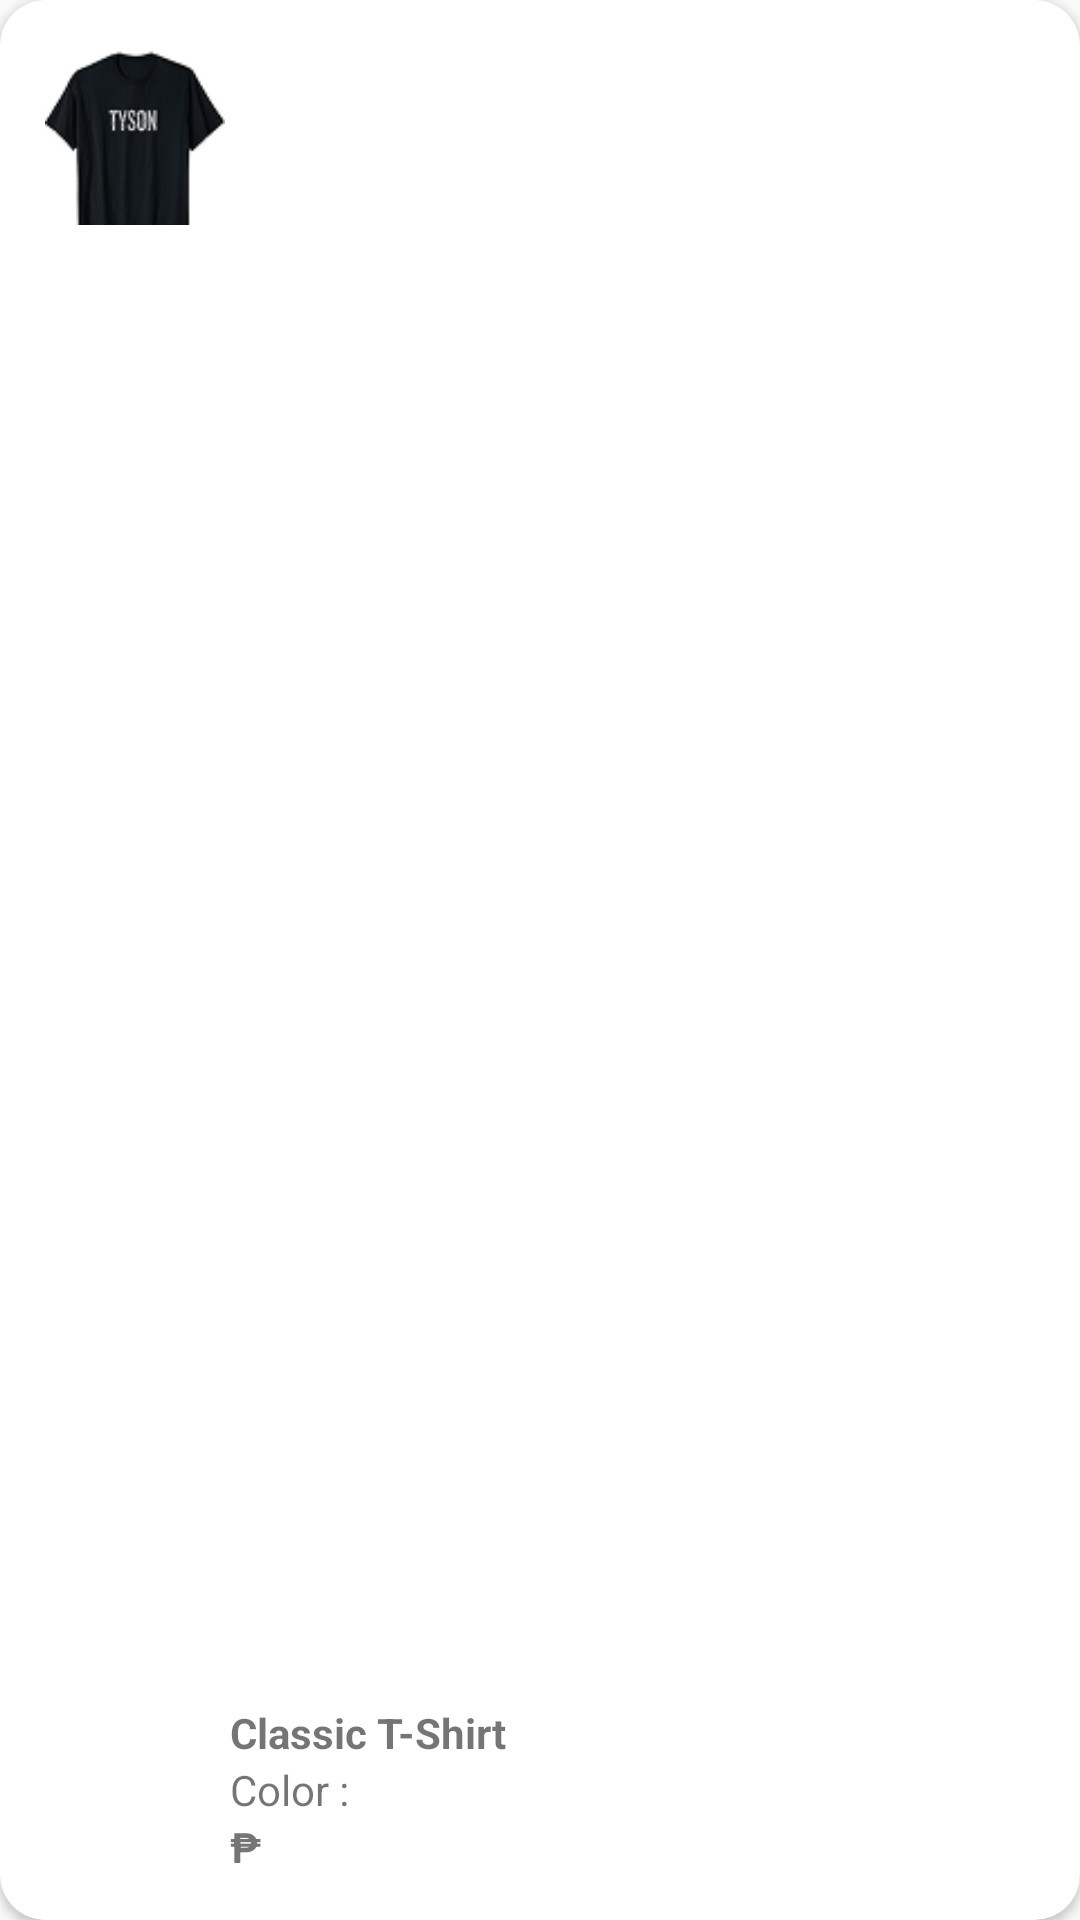

Locate icon controls on the screen. Image size 1080 × 1920, boxes as [x1=x1, y1=y1, x2=x2, y2=y2].
tyson tshirt: [x1=45, y1=51, x2=225, y2=225]
